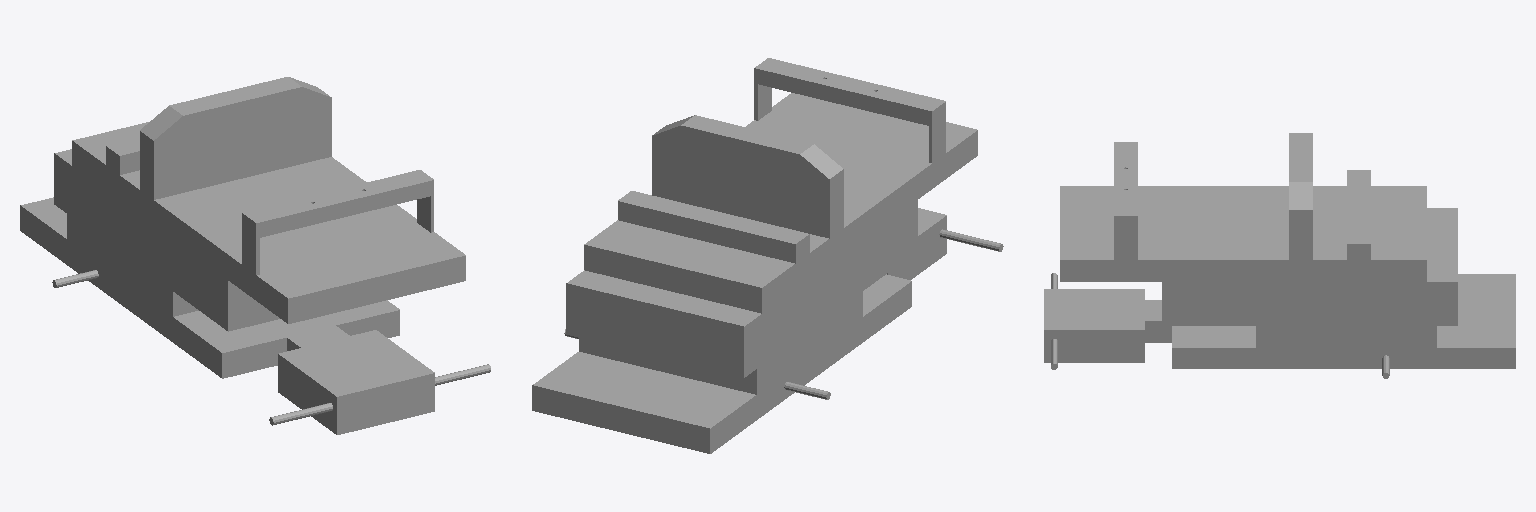
URDF robot description (src):
<?xml version="1.0" ?>
<!-- =================================================================================== -->
<!-- |    This document was autogenerated by xacro from [local-path]/ros2_ws/src/SRC-ROS-2/test_description/urdf/src.urdf.xacro | -->
<!-- |    EDITING THIS FILE BY HAND IS NOT RECOMMENDED                                 | -->
<!-- =================================================================================== -->
<robot name="src">
  <material name="silver">
    <color rgba="0.700 0.700 0.700 1.000"/>
  </material>
  <gazebo>
    <plugin filename="libgazebo_ros_control.so" name="control"/>
  </gazebo>
  <gazebo reference="base_link">
    <material>Gazebo/Silver</material>
    <mu1>0.2</mu1>
    <mu2>0.2</mu2>
    <selfCollide>true</selfCollide>
    <gravity>true</gravity>
  </gazebo>
  <gazebo reference="rear_right_wheel_1">
    <material>Gazebo/Silver</material>
    <mu1>0.2</mu1>
    <mu2>0.2</mu2>
    <selfCollide>true</selfCollide>
  </gazebo>
  <gazebo reference="rear_left_wheel_1">
    <material>Gazebo/Silver</material>
    <mu1>0.2</mu1>
    <mu2>0.2</mu2>
    <selfCollide>true</selfCollide>
  </gazebo>
  <gazebo reference="front_left_wheel_1">
    <material>Gazebo/Silver</material>
    <mu1>0.2</mu1>
    <mu2>0.2</mu2>
    <selfCollide>true</selfCollide>
  </gazebo>
  <gazebo reference="front_right_wheel_1">
    <material>Gazebo/Silver</material>
    <mu1>0.2</mu1>
    <mu2>0.2</mu2>
    <selfCollide>true</selfCollide>
  </gazebo>
  <gazebo reference="laser_1">
    <material>Gazebo/Silver</material>
    <mu1>0.2</mu1>
    <mu2>0.2</mu2>
    <selfCollide>true</selfCollide>
  </gazebo>
  <ros2_control name="GazeboSystem" type="system">
    <hardware>
      <plugin>gazebo_ros2_control/GazeboSystem</plugin>
    </hardware>
    <!-- velocity controller -->
    <joint name="left_rear_wheel_joint">
      <command_interface name="velocity"/>
      <state_interface name="position"/>
      <state_interface name="velocity"/>
      <state_interface name="effort"/>
    </joint>
    <joint name="right_rear_wheel_joint">
      <command_interface name="velocity"/>
      <state_interface name="position"/>
      <state_interface name="velocity"/>
      <state_interface name="effort"/>
    </joint>
    <joint name="left_front_wheel_joint">
      <command_interface name="velocity"/>
      <state_interface name="position"/>
      <state_interface name="velocity"/>
      <state_interface name="effort"/>
    </joint>
    <joint name="right_front_wheel_joint">
      <command_interface name="velocity"/>
      <state_interface name="position"/>
      <state_interface name="velocity"/>
      <state_interface name="effort"/>
    </joint>
    <!-- position controller for steering -->
    <joint name="left_steering_hinge_joint">
      <command_interface name="position">
        <param name="min">-1</param>
        <param name="max">1</param>
      </command_interface>
      <state_interface name="position"/>
      <state_interface name="velocity"/>
      <state_interface name="effort"/>
    </joint>
    <joint name="right_steering_hinge_joint">
      <command_interface name="position">
        <param name="min">-1</param>
        <param name="max">1</param>
      </command_interface>
      <state_interface name="position"/>
      <state_interface name="velocity"/>
      <state_interface name="effort"/>
    </joint>
    <!-- wanted to add ros2 control's imu -->
    <!-- but there's no option for imu covariance setting -->
    <!-- <sensor name="src_imu_sensor">
      <state_interface name="orientation.x"/>
      <state_interface name="orientation.y"/>
      <state_interface name="orientation.z"/>
      <state_interface name="orientation.w"/>
      <state_interface name="angular_velocity.x"/>
      <state_interface name="angular_velocity.y"/>
      <state_interface name="angular_velocity.z"/>
      <state_interface name="linear_acceleration.x"/>
      <state_interface name="linear_acceleration.y"/>
      <state_interface name="linear_acceleration.z"/>
    </sensor> -->
  </ros2_control>
  <gazebo>
    <plugin filename="libgazebo_ros2_control.so" name="gazebo_ros2_control">
      <parameters>[local-path]/ros2_ws/install/test_description/share/test_description/config/ackermann_controller.yaml</parameters>
    </plugin>
  </gazebo>
  <link name="base_footprint"/>
  <link name="base_link">
    <inertial>
      <!-- <origin xyz="-0.005482772974599414 -0.02435791820697421 0.08495983966151519" rpy="0 0 0"/> -->
      <origin rpy="0 0 0" xyz="0.0769978638261129 -2.8140626253308825e-07 0.09495983966151514"/>
      <mass value="31.702953623812817"/>
      <inertia ixx="0.094192" ixy="0.0" ixz="-0.013351" iyy="0.285557" iyz="-0.0" izz="0.298406"/>
    </inertial>
    <visual>
      <origin rpy="0 0 0" xyz="0 0 0"/>
      <geometry>
        <mesh filename="package://test_description/meshes/base_link.stl" scale="0.001 0.001 0.001"/>
      </geometry>
      <material name="silver"/>
    </visual>
    <collision>
      <origin rpy="0 0 0" xyz="0 0 0"/>
      <geometry>
        <mesh filename="package://test_description/meshes/base_link.stl" scale="0.001 0.001 0.001"/>
      </geometry>
    </collision>
  </link>
  <joint name="base_footprint_joint" type="fixed">
    <parent link="base_footprint"/>
    <child link="base_link"/>
    <origin rpy="0 0 0" xyz="0 0 0"/>
  </joint>
  <link name="right_rear_wheel">
    <inertial>
      <origin rpy="0 0 0" xyz="7.159278319822104e-09 -0.009000281406262398 -3.3086341685167886e-07"/>
      <mass value="0.20069792517970372"/>
      <inertia ixx="0.00014" ixy="0.0" ixz="-0.0" iyy="0.00025" iyz="0.0" izz="0.00014"/>
    </inertial>
    <visual>
      <origin rpy="0 0 0" xyz="-0.0 0.089625 -0.050754"/>
      <geometry>
        <mesh filename="package://test_description/meshes/right_rear_wheel.stl" scale="0.001 0.001 0.001"/>
      </geometry>
      <material name="silver"/>
    </visual>
    <collision>
      <origin rpy="0 0 0" xyz="-0.0 0.089625 -0.050754"/>
      <geometry>
        <mesh filename="package://test_description/meshes/right_rear_wheel.stl" scale="0.001 0.001 0.001"/>
      </geometry>
    </collision>
  </link>
  <joint name="right_rear_wheel_joint" type="continuous">
    <origin rpy="0 0 0" xyz="0.0 -0.089625 0.050754"/>
    <parent link="base_link"/>
    <child link="right_rear_wheel"/>
    <axis xyz="0.0 1.0 0.0"/>
  </joint>
  <link name="left_rear_wheel">
    <inertial>
      <origin rpy="0 0 0" xyz="7.1592785340951474e-09 0.008999718593737882 -3.3086341697657895e-07"/>
      <mass value="0.20069792517970372"/>
      <inertia ixx="0.00014" ixy="0.0" ixz="-0.0" iyy="0.00025" iyz="-0.0" izz="0.00014"/>
    </inertial>
    <visual>
      <origin rpy="0 0 0" xyz="-0.0 -0.089625 -0.050754"/>
      <geometry>
        <mesh filename="package://test_description/meshes/left_rear_wheel.stl" scale="0.001 0.001 0.001"/>
      </geometry>
      <material name="silver"/>
    </visual>
    <collision>
      <origin rpy="0 0 0" xyz="-0.0 -0.089625 -0.050754"/>
      <geometry>
        <mesh filename="package://test_description/meshes/left_rear_wheel.stl" scale="0.001 0.001 0.001"/>
      </geometry>
    </collision>
  </link>
  <joint name="left_rear_wheel_joint" type="continuous">
    <origin rpy="0 0 0" xyz="0.0 0.089625 0.050754"/>
    <parent link="base_link"/>
    <child link="left_rear_wheel"/>
    <axis xyz="0.0 1.0 0.0"/>
  </joint>
</robot>

--- What the picture shows (computed from the rendered views, not written in the file) ---
The picture shows the robot from 3 angles, left to right: view 1: azimuth 30°, elevation 25°; view 2: azimuth 150°, elevation 25°; view 3: azimuth 270°, elevation 25°; orthographic projection.
Model src with 4 links and 3 joints (2 continuous, 1 fixed), rooted at base_footprint, posed every joint at zero.
Links seen in each view (by area): view 1: base_link; view 2: base_link; view 3: base_link.
Link boxes in pixels (<box>): base_link: <box>20,77,490,434</box>; base_link: <box>532,58,1003,453</box>; base_link: <box>1044,133,1515,378</box>.
Size in the robot's own frame: 0.2135 by 0.3905 by 0.169 metres.
Meshes: 3 distinct files referenced, 1 mesh visuals loaded (1 binary STL); not drawn: 2 (reference not matched to a file when rendering).